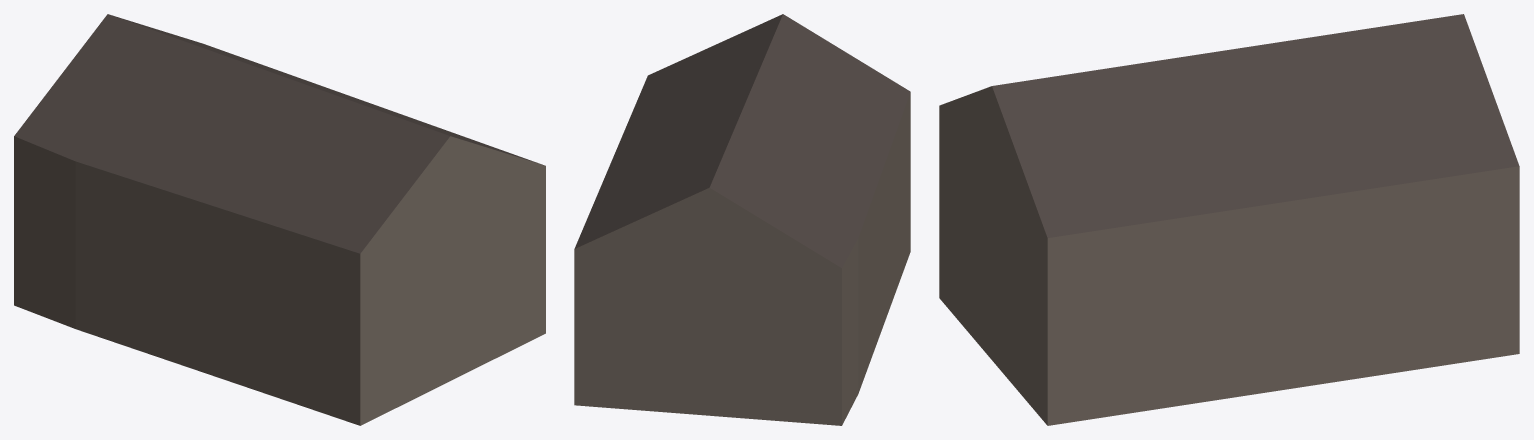
3 views of the same model, side by side, from view 1: azimuth 30°, elevation 25°; view 2: azimuth 150°, elevation 25°; view 3: azimuth 270°, elevation 25° (orthographic). The views are drawn at different scales.
Parts seen in each view (by area): view 1: HP-w1198893542; view 2: HP-w1198893542; view 3: HP-w1198893542.
Boxes of the visible parts, bbox=[...] form: HP-w1198893542: bbox=[14, 14, 545, 425]; HP-w1198893542: bbox=[574, 14, 910, 425]; HP-w1198893542: bbox=[939, 14, 1519, 425].
Bounding box in the file's own units: 20.78 × 13.14 × 25.2.
